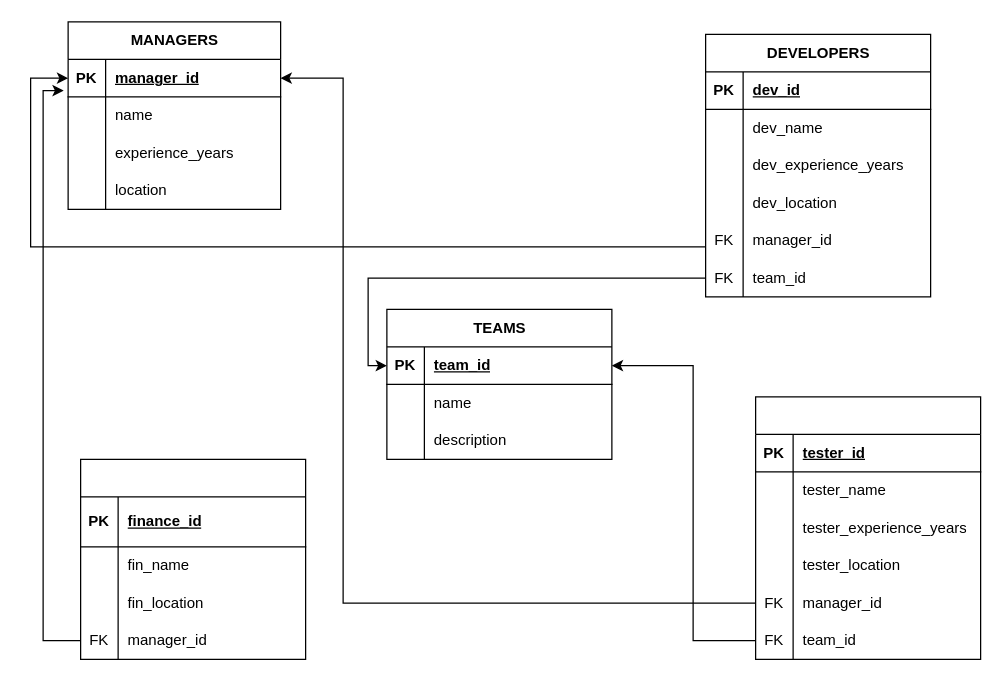
This 1003x681 diagram has some shape labels left out. Here are the shapes that lost their labels. From the top down, the box of each, then its label:
(754, 396, 981, 659): TESTERS
(79, 458, 306, 659): FINANCE_TEAM
